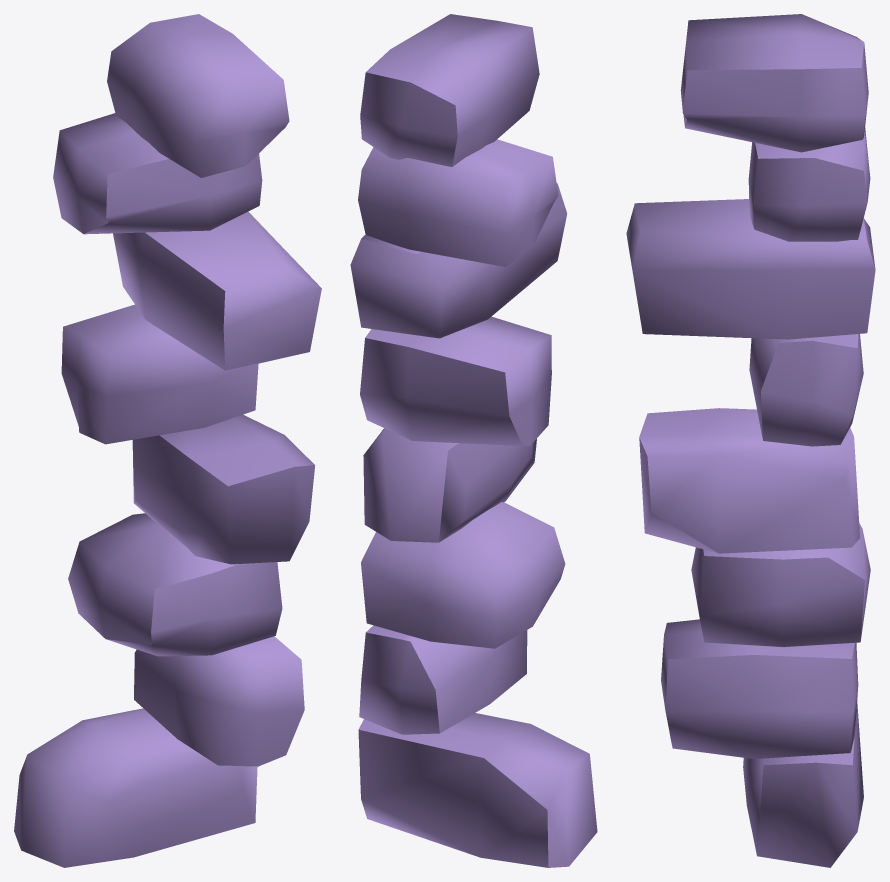
The model's file is stoneBorderCorner.fbx.
The picture shows the model from 3 angles, left to right: view 1: azimuth 30°, elevation 25°; view 2: azimuth 150°, elevation 25°; view 3: azimuth 270°, elevation 25°; orthographic projection. The views are drawn at different scales.
Parts seen in each view (by area): view 1: Cube.012; view 2: Cube.012; view 3: Cube.012.
Part boxes in pixels (left/top/right/bottom): Cube.012: left=14, top=14, right=321, bottom=867; Cube.012: left=350, top=14, right=597, bottom=867; Cube.012: left=626, top=14, right=875, bottom=867.
Bounding box in the file's own units: 1.42 × 5.07 × 1.42.
